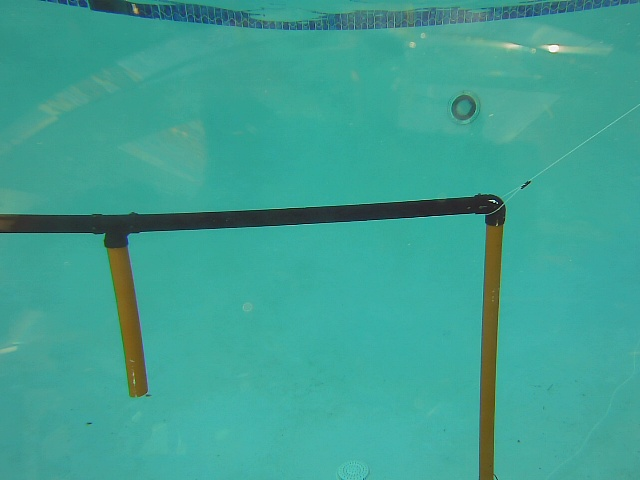Gate: (474, 215, 509, 480), (100, 234, 150, 400)
